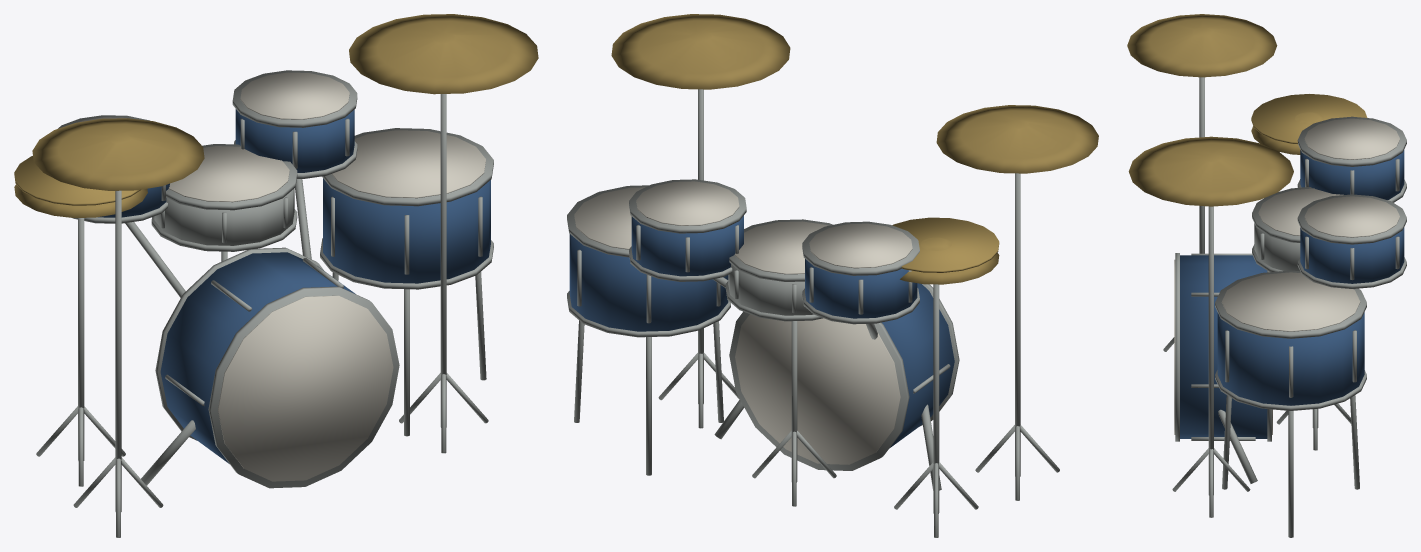
File: instrument-02-drums.glb
The picture shows the model from 3 angles, left to right: view 1: azimuth 30°, elevation 25°; view 2: azimuth 150°, elevation 25°; view 3: azimuth 270°, elevation 25°; orthographic projection. The views are drawn at different scales.
Visible parts, largest first — view 1: drums_russel_geometry; view 2: drums_russel_geometry; view 3: drums_russel_geometry.
Part boxes in pixels (x1=…): drums_russel_geometry: x1=14, y1=14, x2=538, y2=537; drums_russel_geometry: x1=567, y1=14, x2=1098, y2=537; drums_russel_geometry: x1=1127, y1=14, x2=1406, y2=537.
Bounding box in the file's own units: 1.61 × 1.24 × 0.913.
